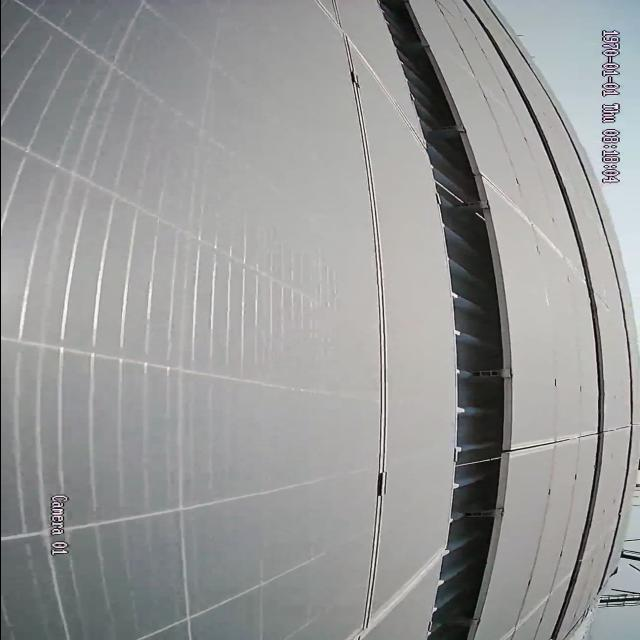interior panel: (343, 43, 387, 608), (351, 559, 425, 639), (522, 433, 587, 453)
outher panel: (373, 3, 514, 639)
